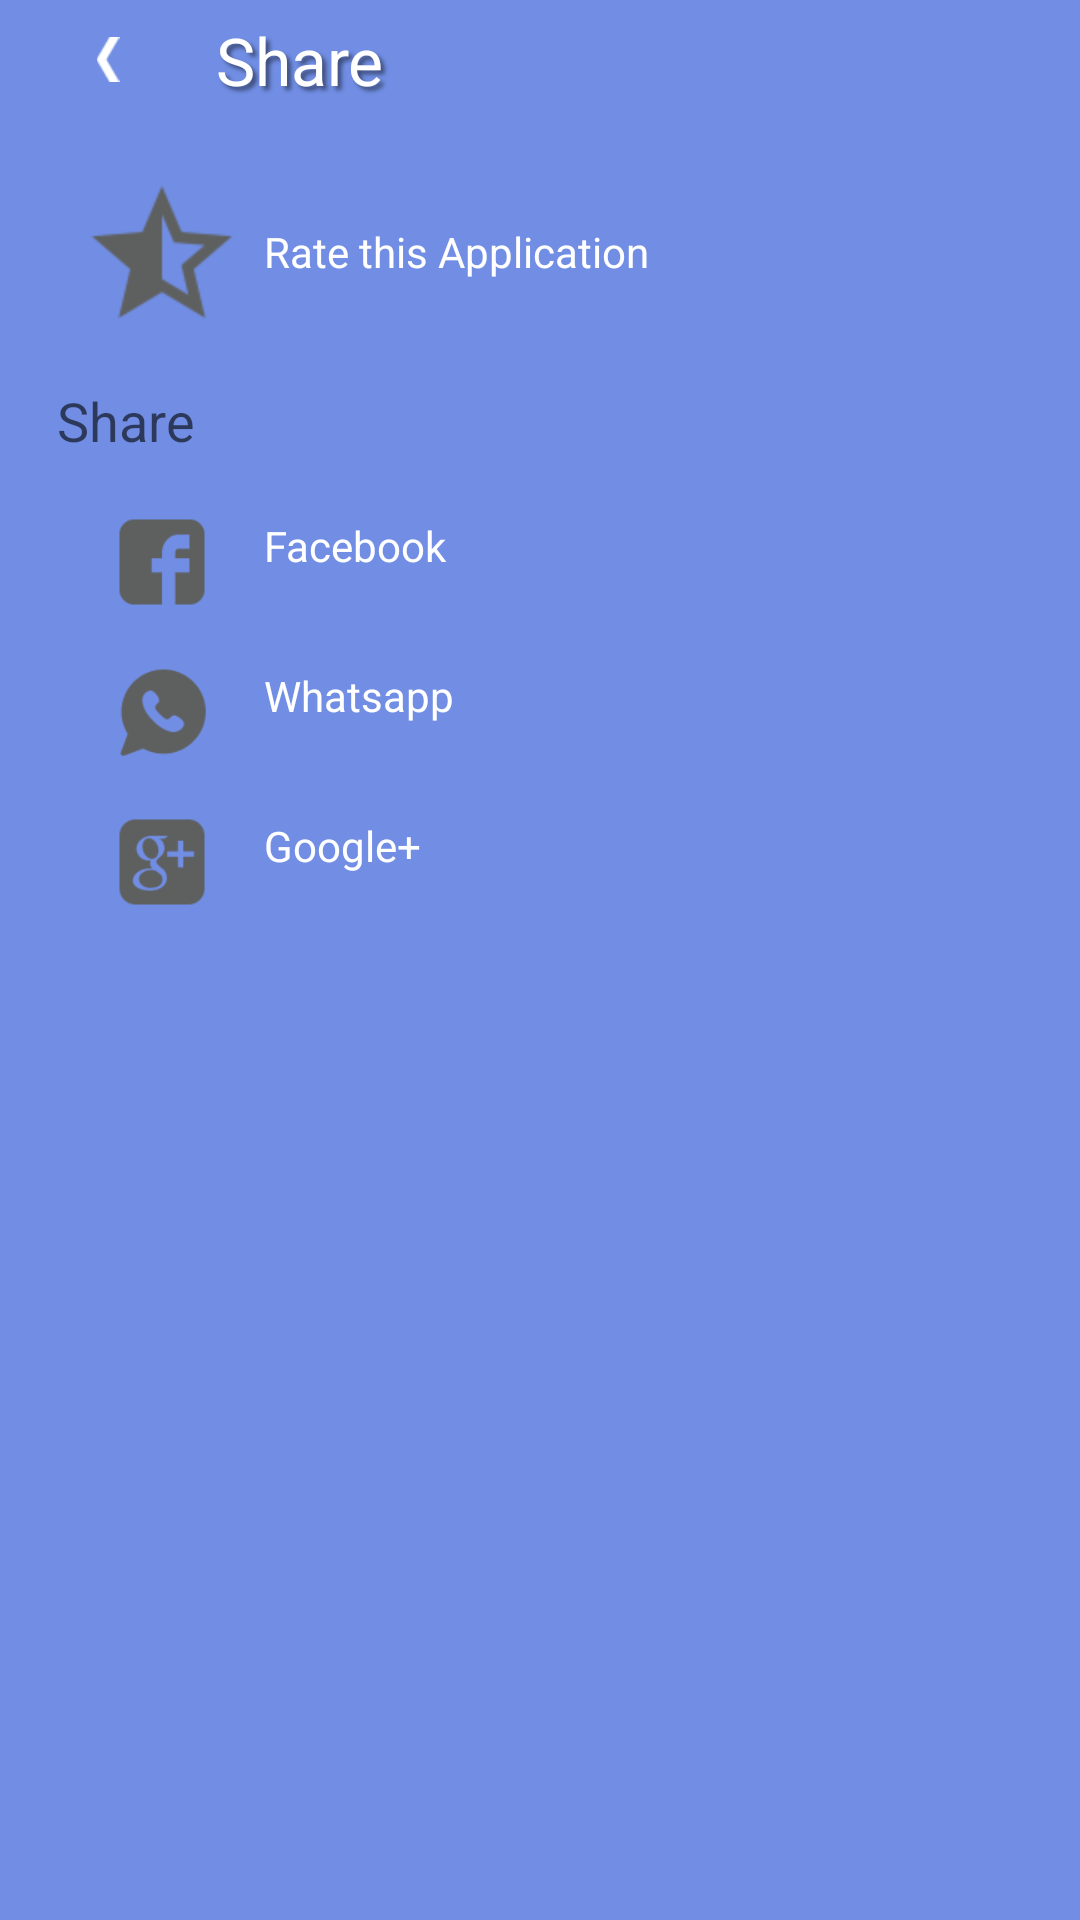

Screen size 1080px x 1920px. Icon name, then its center in pixels as (x=x, y=y):
back arrow: (x=108, y=59)
rating: (x=162, y=252)
